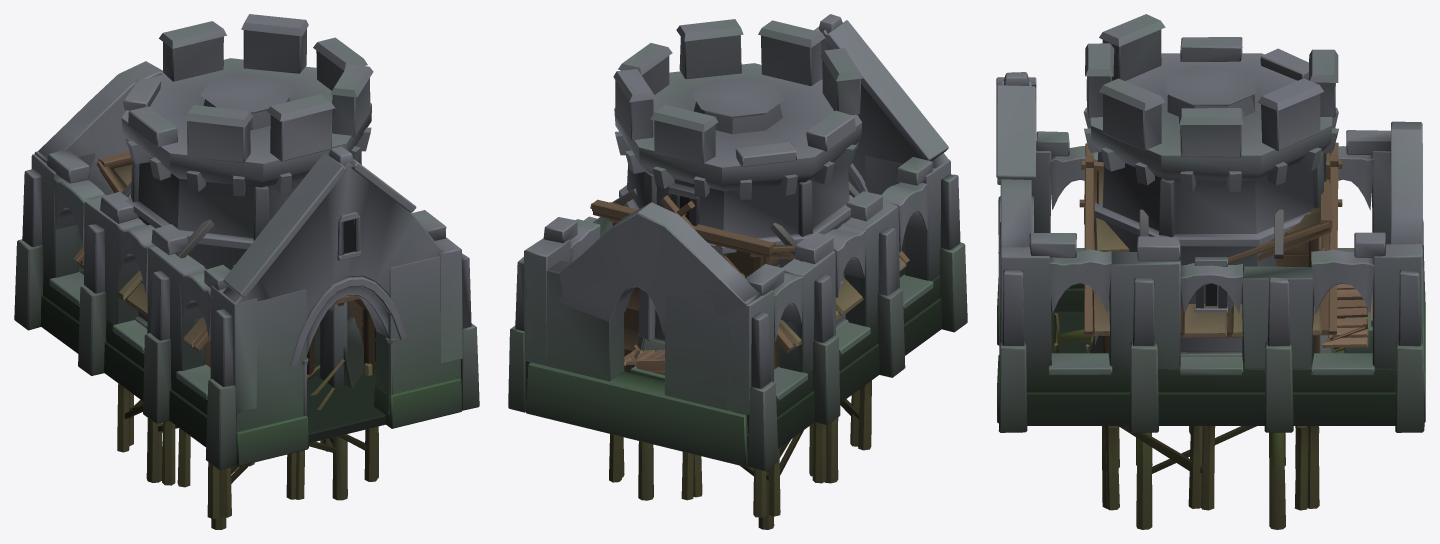
File: sector03_village.glb
3 renders of one model, left to right at view 1: azimuth 30°, elevation 25°; view 2: azimuth 150°, elevation 25°; view 3: azimuth 270°, elevation 25°, orthographic. The views are drawn at different scales.
Visible parts, largest first — view 1: Sunken_Chapel_Stone, Watch_Turret_Stone, Stilt_Shack_A, Stilt_Shack_B, Fishing_Pier_Bay; view 2: Sunken_Chapel_Stone, Watch_Turret_Stone, Stilt_Shack_B, Stilt_Shack_A, Fishing_Pier_Bay, Wrecked_Barge; view 3: Sunken_Chapel_Stone, Watch_Turret_Stone, Stilt_Shack_A, Stilt_Shack_B, Fishing_Pier_Bay, Wrecked_Barge.
Boxes of the visible parts, x1=… form: Sunken_Chapel_Stone: x1=14, y1=61, x2=479, y2=469; Watch_Turret_Stone: x1=121, y1=14, x2=373, y2=387; Stilt_Shack_A: x1=73, y1=248, x2=378, y2=518; Stilt_Shack_B: x1=97, y1=151, x2=377, y2=517; Fishing_Pier_Bay: x1=146, y1=418, x2=347, y2=529; Sunken_Chapel_Stone: x1=508, y1=14, x2=967, y2=470; Watch_Turret_Stone: x1=613, y1=19, x2=862, y2=372; Stilt_Shack_B: x1=590, y1=199, x2=859, y2=517; Stilt_Shack_A: x1=622, y1=195, x2=909, y2=516; Fishing_Pier_Bay: x1=638, y1=417, x2=838, y2=529; Wrecked_Barge: x1=624, y1=344, x2=664, y2=375; Sunken_Chapel_Stone: x1=996, y1=72, x2=1425, y2=432; Watch_Turret_Stone: x1=1083, y1=14, x2=1338, y2=356; Stilt_Shack_A: x1=1079, y1=142, x2=1342, y2=510; Stilt_Shack_B: x1=1102, y1=153, x2=1332, y2=508; Fishing_Pier_Bay: x1=1136, y1=426, x2=1285, y2=529; Wrecked_Barge: x1=1053, y1=283, x2=1372, y2=353.
Bounding box in the file's own units: 6.2 × 9.6 × 8.5.
